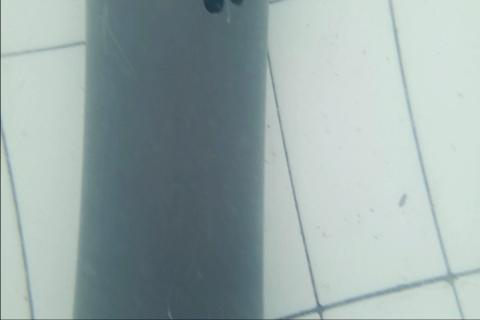kebocoran: (201, 0, 244, 14)
